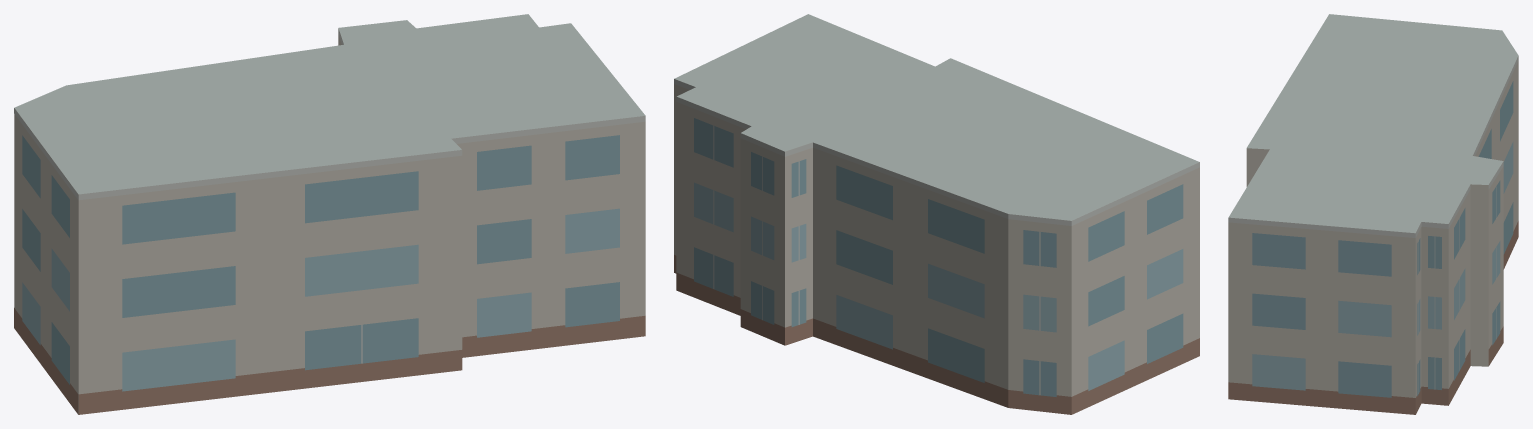
The model's file is survey-upis-32866812.glb.
3 views of the same model, side by side, from view 1: azimuth 30°, elevation 25°; view 2: azimuth 150°, elevation 25°; view 3: azimuth 270°, elevation 25° (orthographic). The views are drawn at different scales.
Visible parts, largest first — view 1: survey-upis-32866812.tmp; view 2: survey-upis-32866812.tmp; view 3: survey-upis-32866812.tmp.
Part boxes in pixels (<box>): survey-upis-32866812.tmp: <box>14,14,645,414</box>; survey-upis-32866812.tmp: <box>674,14,1199,414</box>; survey-upis-32866812.tmp: <box>1228,14,1518,414</box>.
Size of the model in its own units: 23.69 by 9.15 by 13.26.
